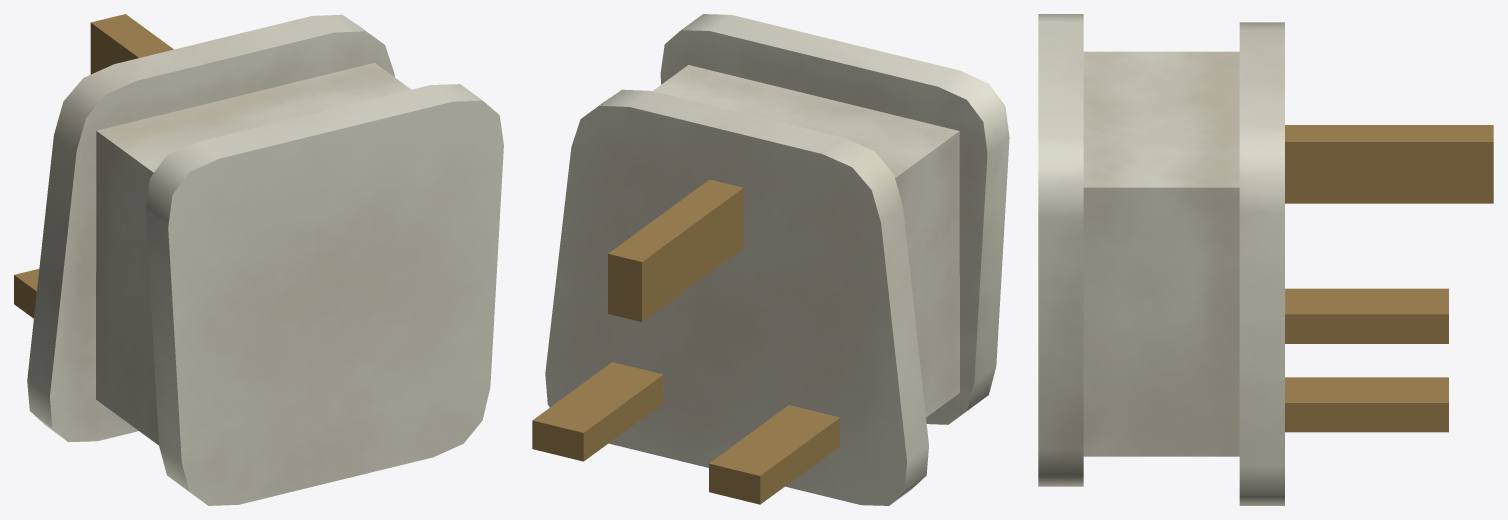
The model's file is plug.FBX.
The picture shows the model from 3 angles, left to right: view 1: azimuth 30°, elevation 25°; view 2: azimuth 150°, elevation 25°; view 3: azimuth 270°, elevation 25°; orthographic projection. The views are drawn at different scales.
Visible parts, largest first — view 1: plug; view 2: plug; view 3: plug.
Boxes of the visible parts, x1=… form: plug: x1=14, y1=14, x2=503, y2=505; plug: x1=532, y1=14, x2=1009, y2=505; plug: x1=1038, y1=14, x2=1493, y2=505.
Size of the model in its own units: 4.36 by 3.94 by 4.62.
1 material, 1 textured.
